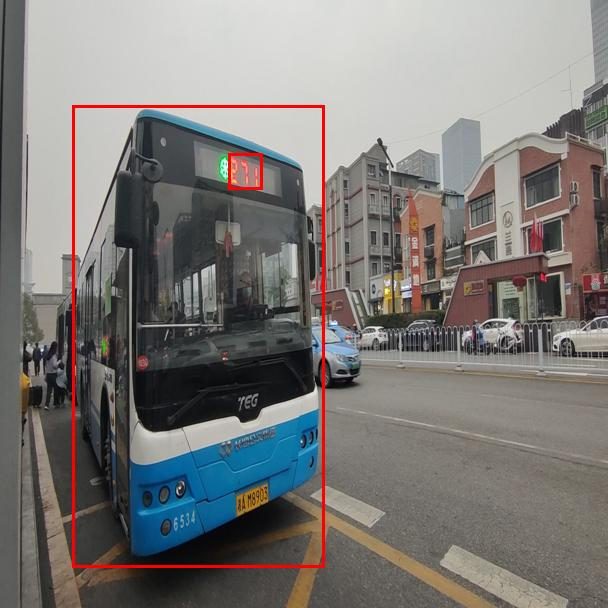bus: (72, 105, 324, 567)
screen: (228, 153, 262, 189)
